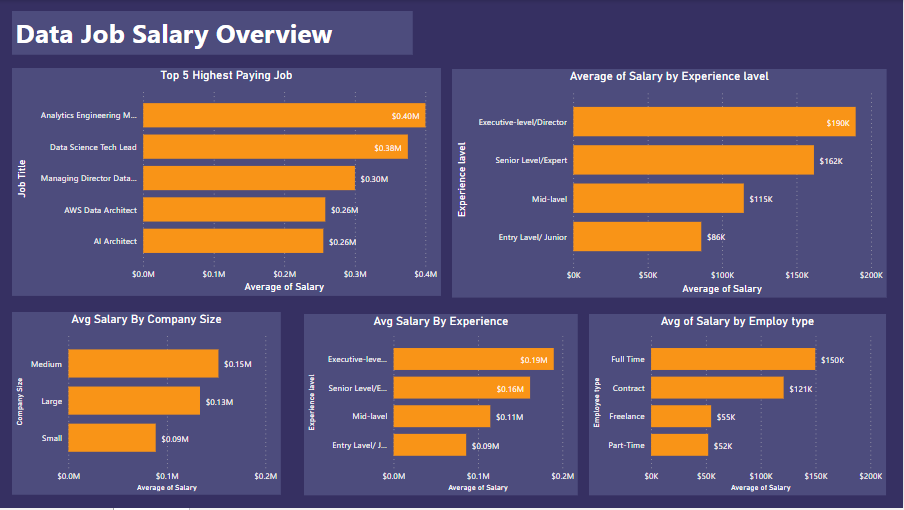

This screenshot's page, from the dashboard's own definition file:
{"tool":"powerbi","page":{"name":"Page 1","canvas":[1280,720],"ordinal":0},"visuals":[{"type":"barChart","fields":{"Category":["salaries.Experience lavel"],"Y":["Avg(salaries.Salary)"]},"box":[640,97.9,615.9,323.8],"z":0},{"type":"barChart","title":"Top 5 Highest Paying Job","fields":{"Category":["salaries.job_title"],"Y":["Avg(salaries.Salary)"]},"box":[17,96.4,608,323.1],"z":1000},{"type":"barChart","title":"Avg Salary By Company Size","fields":{"Category":["salaries.company size"],"Y":["Avg(salaries.Salary)"]},"box":[17,442.2,381.3,259.4],"z":2000},{"type":"barChart","title":"Avg Salary By Experience","fields":{"Category":["salaries.Experience lavel"],"Y":["Avg(salaries.Salary)"]},"box":[430.9,445,388.3,256.5],"z":3000},{"type":"barChart","title":"Avg of Salary by Employ type","fields":{"Category":["salaries.Employ type"],"Y":["Avg(salaries.Salary)"]},"box":[834.8,445,420.9,256.5],"z":4000},{"type":"textbox","box":[17,15.6,568.3,62.4],"z":5000}]}

Visuals, with their boxes in screenshot pixels (x1, y1, x2, y2), scaled from the page's 1280x720 canvas onto the 904x510 screenshot:
barChart - salaries.Experience lavel x Avg(salaries.Salary): x1=452 y1=69 x2=887 y2=299
"Top 5 Highest Paying Job" barChart: x1=12 y1=68 x2=441 y2=297
"Avg Salary By Company Size" barChart: x1=12 y1=313 x2=281 y2=497
"Avg Salary By Experience" barChart: x1=304 y1=315 x2=579 y2=497
"Avg of Salary by Employ type" barChart: x1=590 y1=315 x2=887 y2=497
textbox: x1=12 y1=11 x2=413 y2=55
